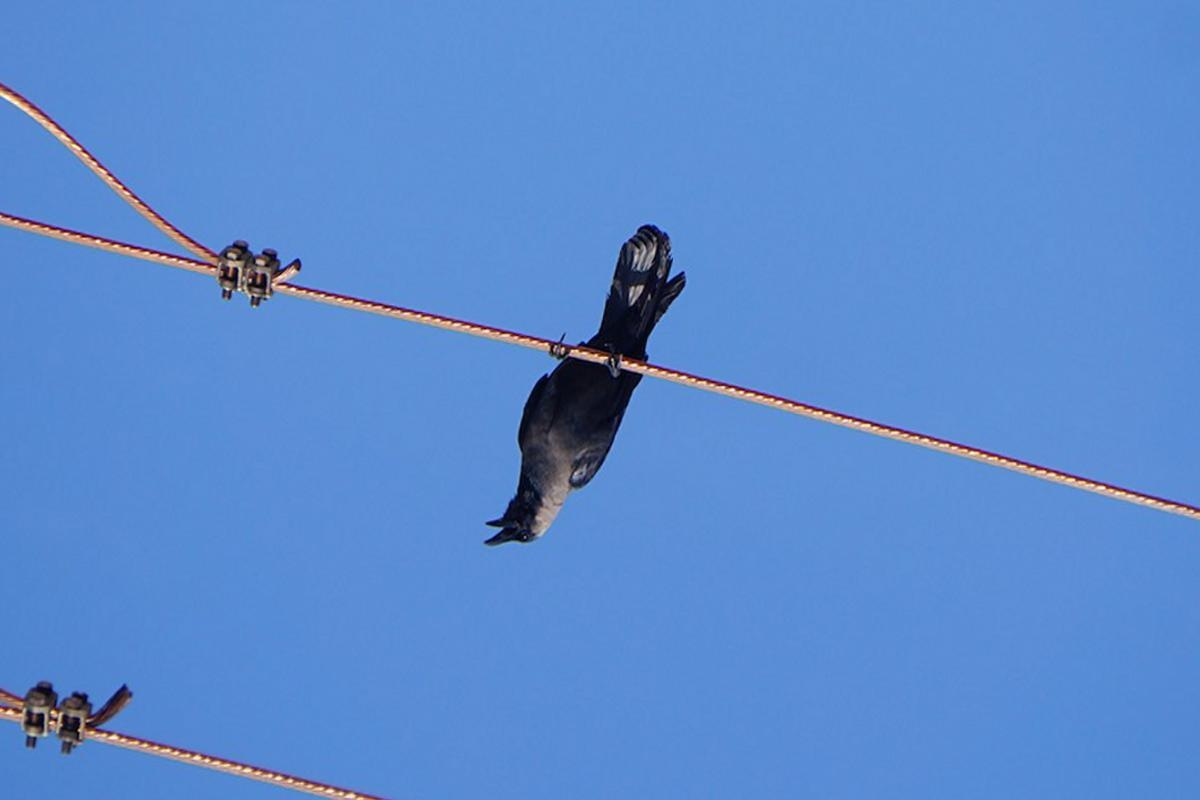crow: (466, 207, 702, 556)
